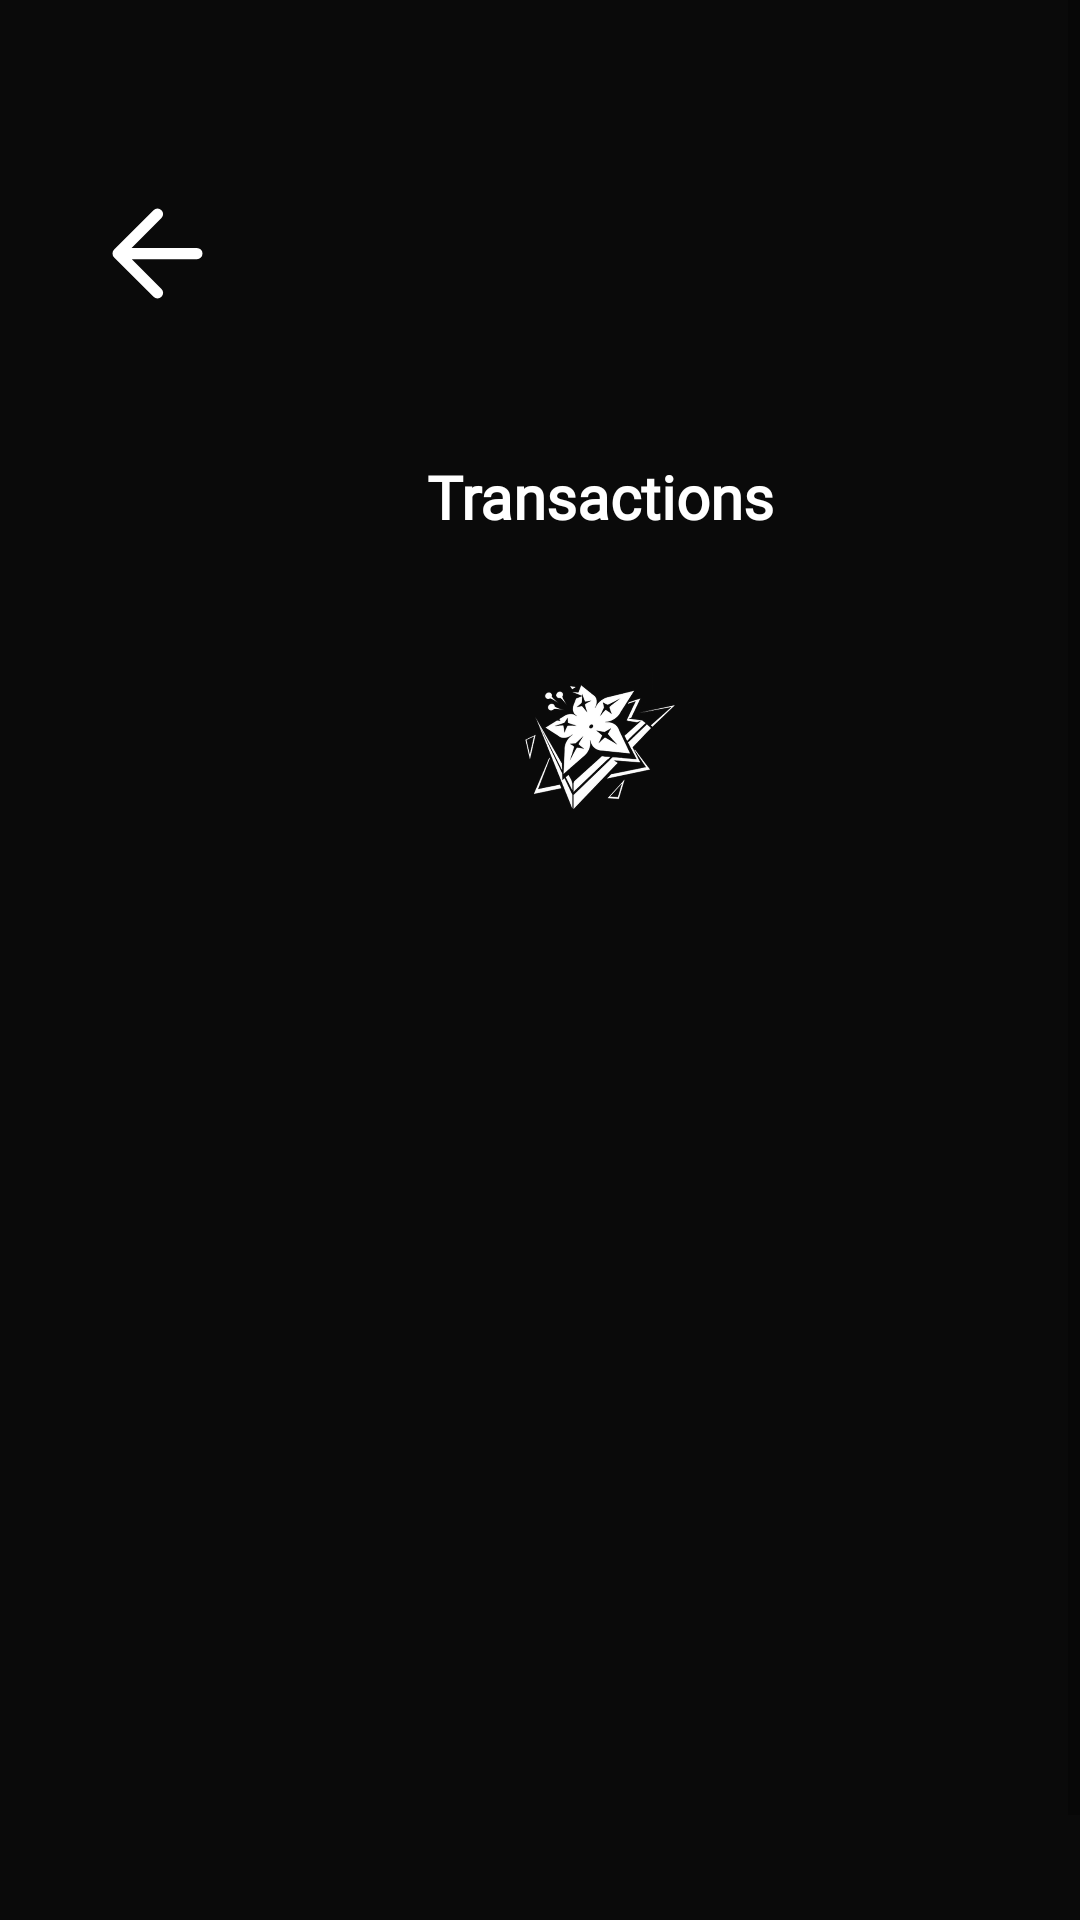

Locate icon controls on the screen. Image size 1080w x 1920h, boxes as (x1, y1, x2, y2).
back: (112, 208, 203, 299)
